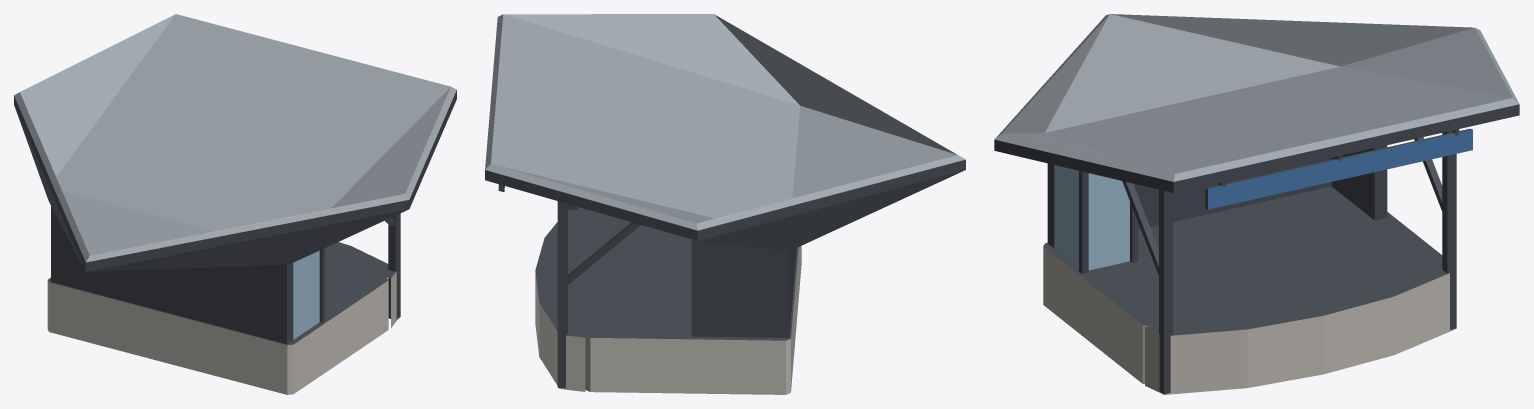
The model's file is music-factory-amphitheatre.glb.
3 views of the same model, side by side, from view 1: azimuth 30°, elevation 25°; view 2: azimuth 150°, elevation 25°; view 3: azimuth 270°, elevation 25° (orthographic). The views are drawn at different scales.
Visible parts, largest first — view 1: Skyla Credit Union Amphitheatre; view 2: Skyla Credit Union Amphitheatre; view 3: Skyla Credit Union Amphitheatre.
Boxes of the visible parts, x1,y1,x2,y2 form: Skyla Credit Union Amphitheatre: [14, 14, 456, 394]; Skyla Credit Union Amphitheatre: [485, 14, 965, 394]; Skyla Credit Union Amphitheatre: [994, 14, 1519, 394].
Bounding box in the file's own units: 30.9 × 15.87 × 29.77.
